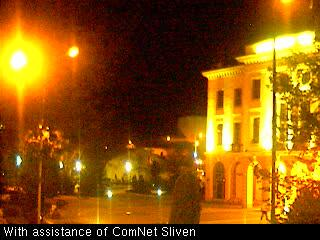person: (260, 199, 270, 221)
